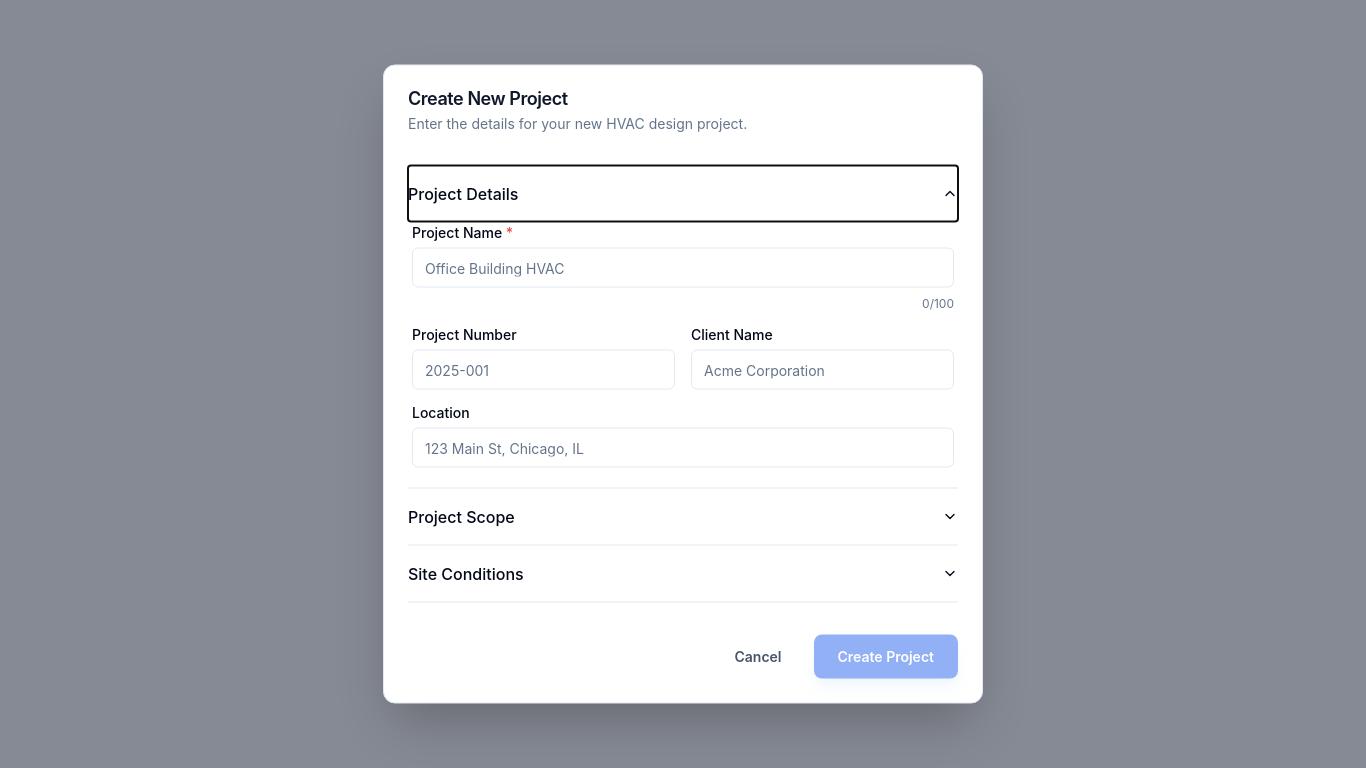
NewProjectDialog › Form Validation › should enable create button when project name is provided
The image size is (1366, 768).
Type "My New Project" into the field with test id "project-name-input" at (683, 268), box [412,248,954,288]
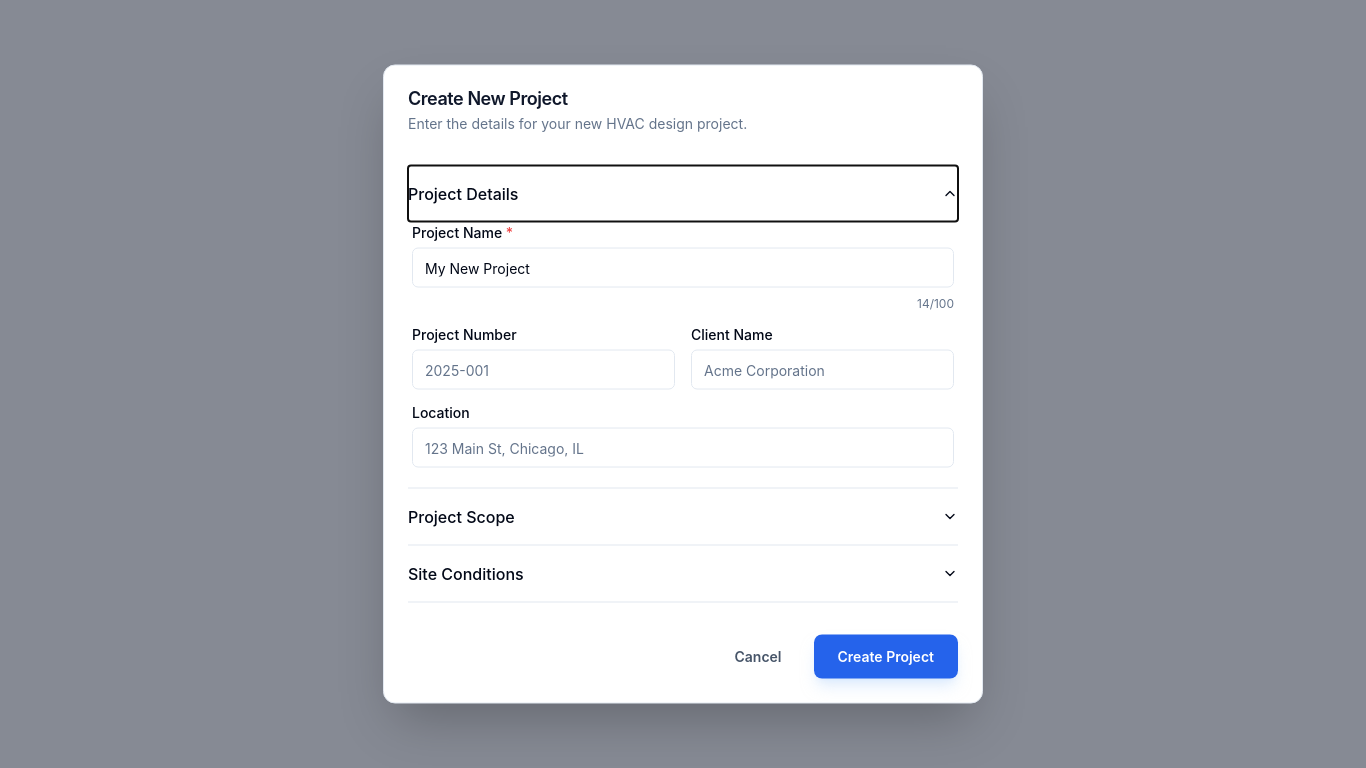
Expected: the button with test id "create-button" is enabled, [814,634,958,678]
